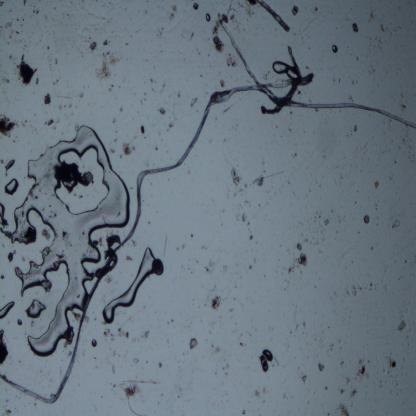Air bubble: (12, 107, 129, 357), (100, 247, 156, 325), (24, 300, 48, 319), (0, 299, 16, 320), (4, 178, 19, 196), (90, 338, 98, 349)
Background material: (86, 38, 122, 79), (54, 160, 95, 191), (302, 210, 324, 247), (18, 52, 37, 86), (123, 381, 141, 415), (0, 19, 24, 40), (0, 112, 16, 139), (294, 242, 310, 269), (258, 347, 274, 374), (206, 290, 223, 311), (0, 329, 9, 366), (355, 359, 370, 380), (45, 114, 63, 131), (179, 24, 195, 43), (224, 51, 239, 70), (229, 166, 242, 187), (348, 279, 362, 296), (211, 36, 224, 52), (152, 259, 164, 275), (166, 5, 177, 22), (398, 318, 409, 335), (122, 142, 133, 157), (253, 174, 265, 187), (188, 338, 200, 350), (164, 122, 178, 132), (338, 400, 348, 414), (389, 218, 402, 228), (173, 87, 183, 100), (238, 211, 249, 222), (348, 388, 359, 399), (290, 5, 301, 16), (238, 184, 250, 194), (362, 213, 372, 225), (368, 12, 378, 24), (44, 93, 53, 106), (137, 125, 147, 136), (351, 23, 361, 34), (141, 328, 151, 339), (188, 98, 200, 107), (363, 281, 373, 291), (317, 361, 326, 372), (162, 82, 170, 94), (218, 79, 226, 91), (21, 0, 30, 10), (389, 359, 398, 369), (378, 21, 387, 31), (214, 343, 222, 354), (299, 372, 306, 384), (212, 22, 219, 34), (366, 243, 375, 252), (204, 264, 212, 274), (31, 9, 41, 17), (204, 13, 212, 23), (192, 2, 200, 12), (373, 180, 380, 191), (288, 266, 296, 274), (338, 385, 344, 395), (324, 218, 330, 228), (332, 44, 338, 54), (300, 320, 306, 330), (226, 306, 234, 313), (352, 124, 359, 132), (226, 362, 232, 371), (401, 102, 406, 112), (112, 138, 119, 145), (209, 261, 215, 269), (345, 377, 351, 385), (0, 0, 6, 8), (200, 244, 208, 250), (323, 384, 329, 391), (181, 243, 186, 251), (292, 152, 297, 160), (248, 264, 254, 270), (5, 79, 12, 84), (8, 53, 13, 60), (250, 235, 254, 243), (239, 342, 245, 347), (254, 255, 257, 265), (150, 78, 154, 85), (341, 360, 345, 367), (112, 117, 116, 123), (329, 345, 333, 351), (295, 324, 298, 331), (163, 110, 167, 115), (404, 259, 408, 264), (244, 199, 248, 204), (257, 203, 261, 208), (375, 205, 378, 211), (394, 160, 397, 165), (119, 107, 122, 112), (354, 201, 357, 205), (191, 233, 193, 238), (278, 257, 280, 262), (286, 249, 289, 252), (264, 273, 266, 277)
Cellulose filter fibre: (217, 12, 416, 131), (260, 47, 308, 117), (254, 0, 292, 35)
Cotton: (0, 72, 313, 404)
